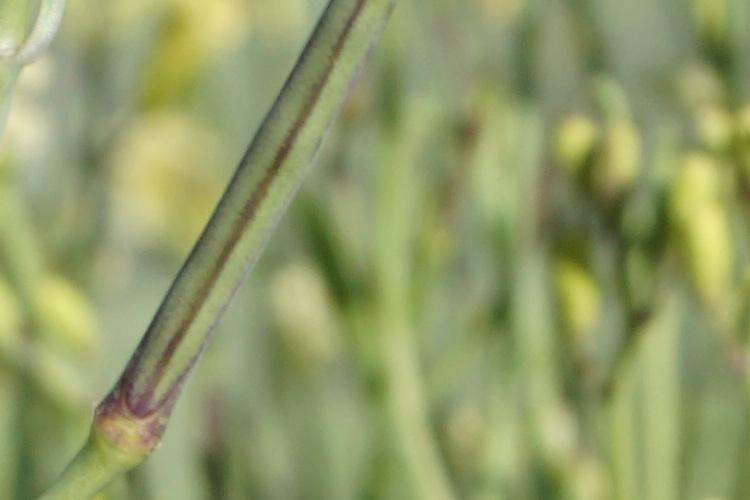pod: (93, 12, 391, 427)
